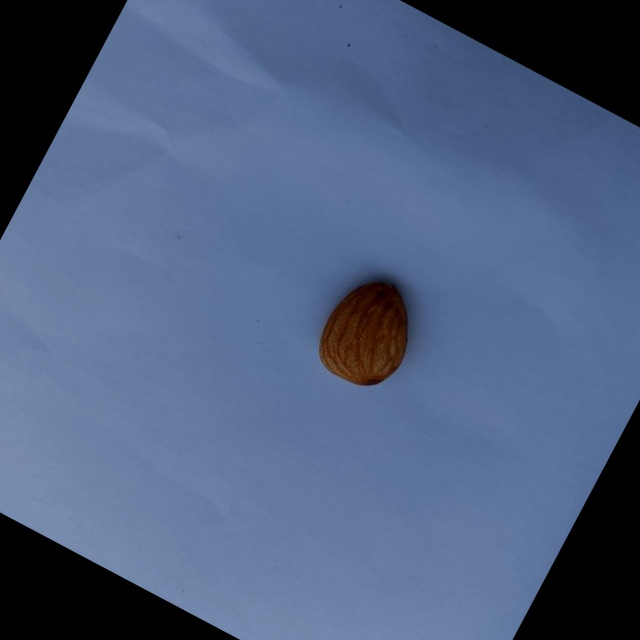grade1: (295, 254, 441, 409)
